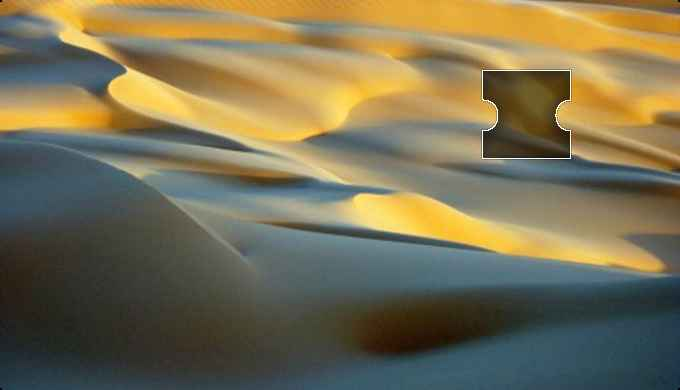gap: (483, 70, 571, 160)
